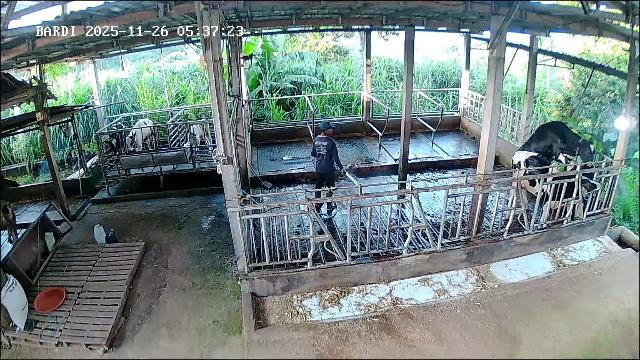mounting: (516, 120, 596, 168)
